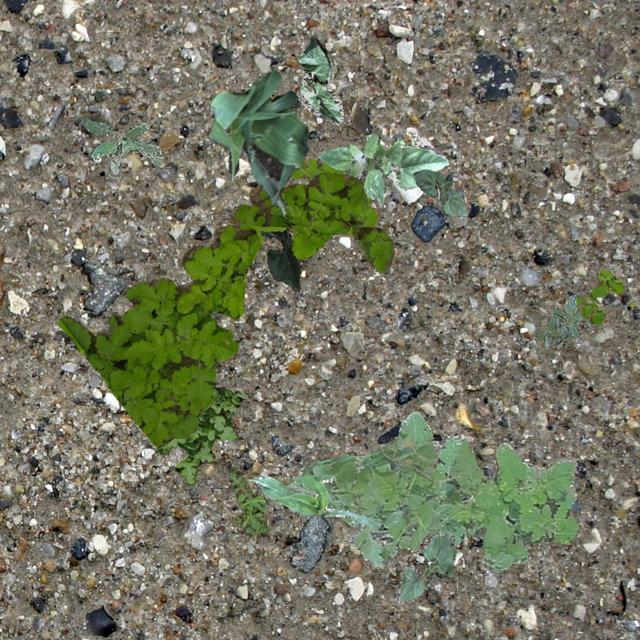crop: (208, 68, 308, 214), (252, 474, 376, 526), (342, 138, 448, 198), (394, 532, 454, 602), (298, 38, 342, 124), (260, 213, 300, 290), (412, 168, 466, 216)
weed: (56, 170, 394, 446), (284, 410, 578, 572), (154, 379, 246, 484), (290, 154, 380, 226), (80, 116, 162, 174), (318, 134, 384, 206), (228, 466, 266, 540), (574, 268, 622, 324), (532, 294, 580, 346)
